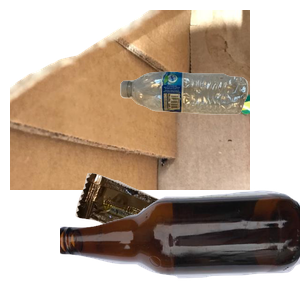cardboard: (10, 10, 250, 190)
glass: (60, 188, 300, 300)
plastic: (118, 69, 300, 176)
trash: (73, 171, 242, 300)
